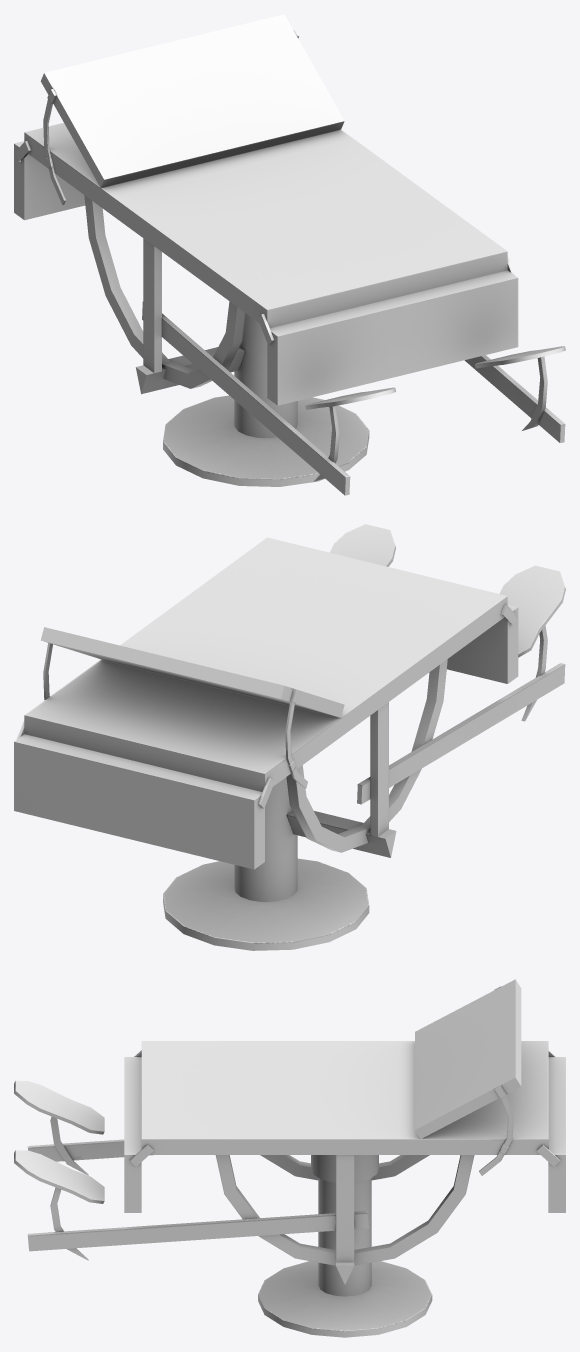
The model's file is operating_table.fbx.
3 renders of one model, top to bottom at view 1: azimuth 30°, elevation 25°; view 2: azimuth 150°, elevation 25°; view 3: azimuth 270°, elevation 25°, orthographic. The views are drawn at different scales.
Parts seen in each view (by area): view 1: operating_table; view 2: operating_table; view 3: operating_table.
Boxes of the visible parts, bbox=[...] form: operating_table: bbox=[14, 14, 565, 495]; operating_table: bbox=[14, 524, 565, 950]; operating_table: bbox=[14, 979, 565, 1337].
Bounding box in the file's own units: 416 × 517 × 950.
